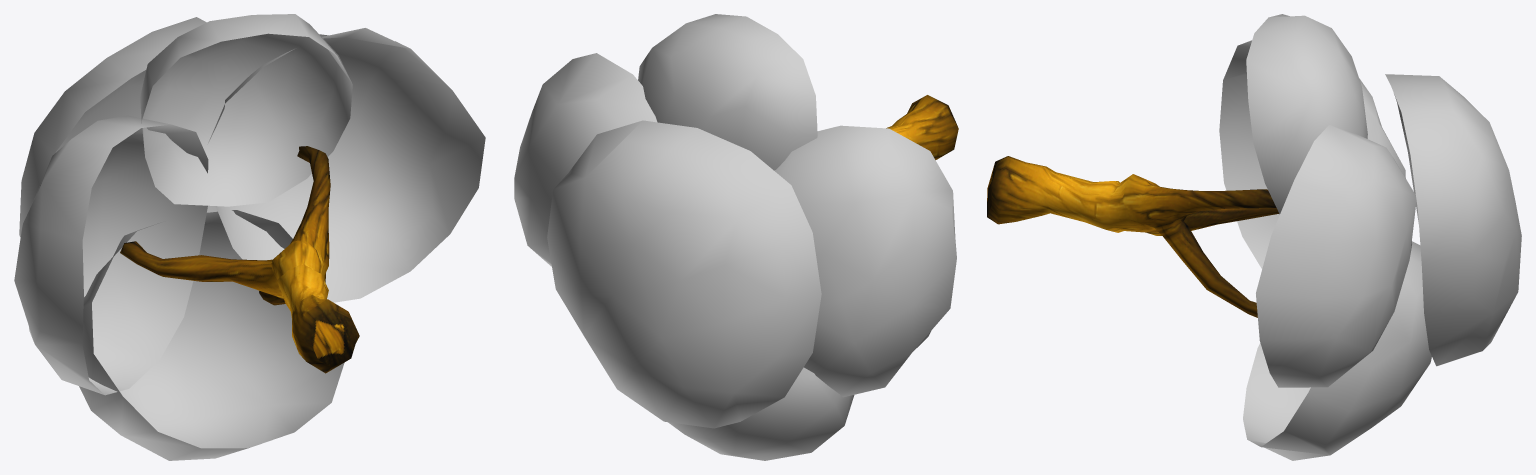
File: tree02.fbx
3 views of the same model, side by side, from view 1: azimuth 30°, elevation 25°; view 2: azimuth 150°, elevation 25°; view 3: azimuth 270°, elevation 25° (orthographic). The views are drawn at different scales.
Parts seen in each view (by area): view 1: tree02; view 2: tree02; view 3: tree02.
Boxes of the visible parts, bbox=[...] form: tree02: bbox=[14, 14, 485, 460]; tree02: bbox=[514, 14, 958, 460]; tree02: bbox=[987, 14, 1521, 460].
Bounding box in the file's own units: 377 × 351 × 399.
